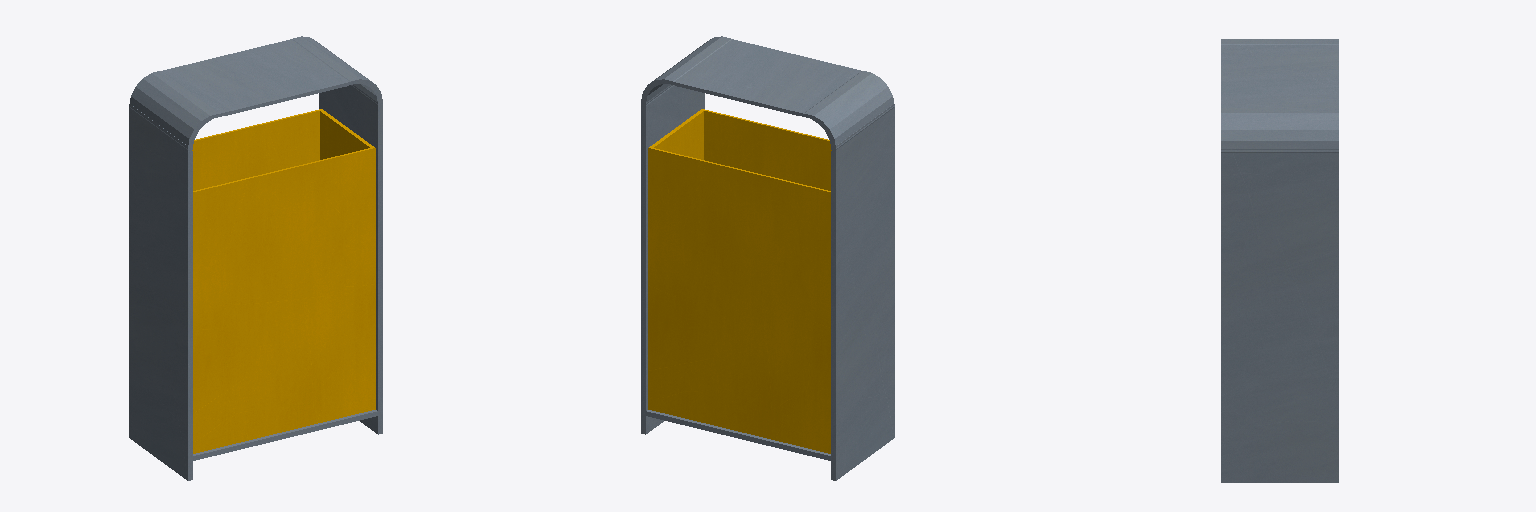
3 views of the same model, side by side, from view 1: azimuth 30°, elevation 25°; view 2: azimuth 150°, elevation 25°; view 3: azimuth 270°, elevation 25° (orthographic).
Visible parts, largest first — view 1: Box016, Box015; view 2: Box016, Box015; view 3: Box015.
Boxes of the visible parts, <box> form: Box016: <box>192,109,375,453</box>; Box015: <box>129,36,382,480</box>; Box016: <box>648,109,831,453</box>; Box015: <box>641,36,894,480</box>; Box015: <box>1221,39,1338,482</box>.
Bounding box in the file's own units: 27.77 × 48.99 × 14.47.
2 materials, 2 textured.